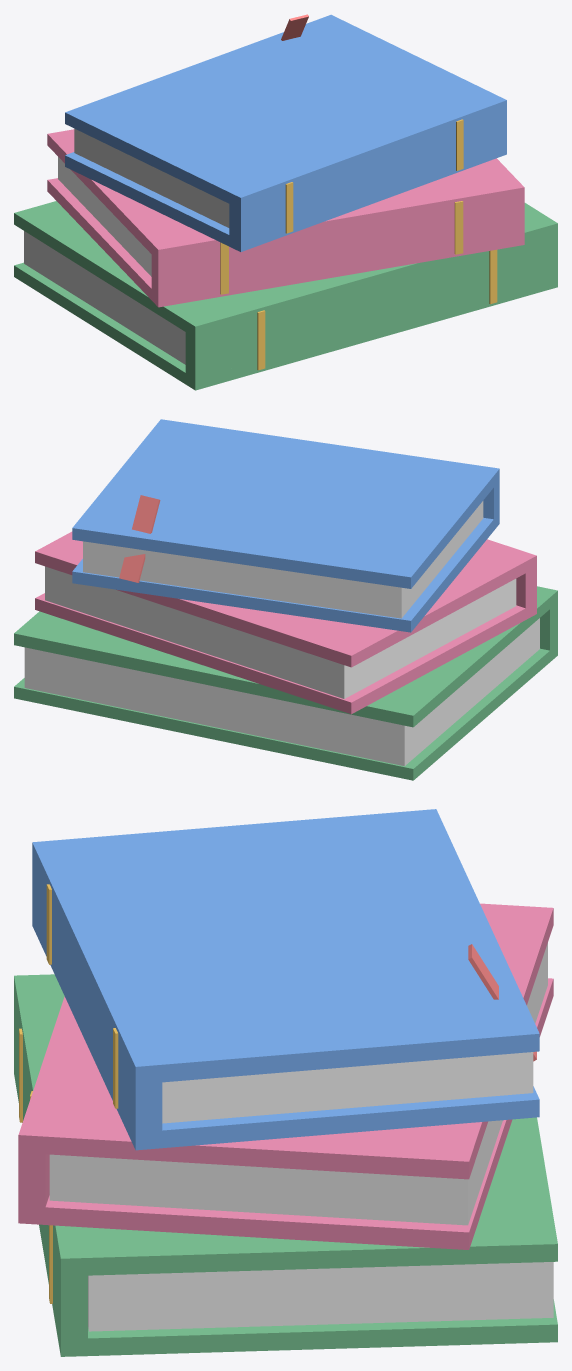
Rendered from books.glb.
The picture shows the model from 3 angles, top to bottom: view 1: azimuth 30°, elevation 25°; view 2: azimuth 150°, elevation 25°; view 3: azimuth 270°, elevation 25°; orthographic projection. The views are drawn at different scales.
Visible parts, largest first — view 1: books; view 2: books; view 3: books.
Boxes of the visible parts, x1,y1,x2,y2 form: books: (14, 14, 557, 390); books: (14, 419, 557, 780); books: (14, 809, 557, 1356).
Bounding box in the file's own units: 0.6506 × 0.318 × 0.5021.
